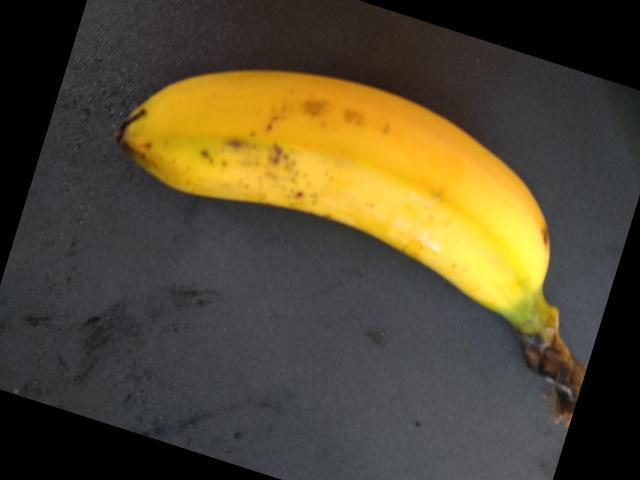ripe: (116, 55, 554, 325)
